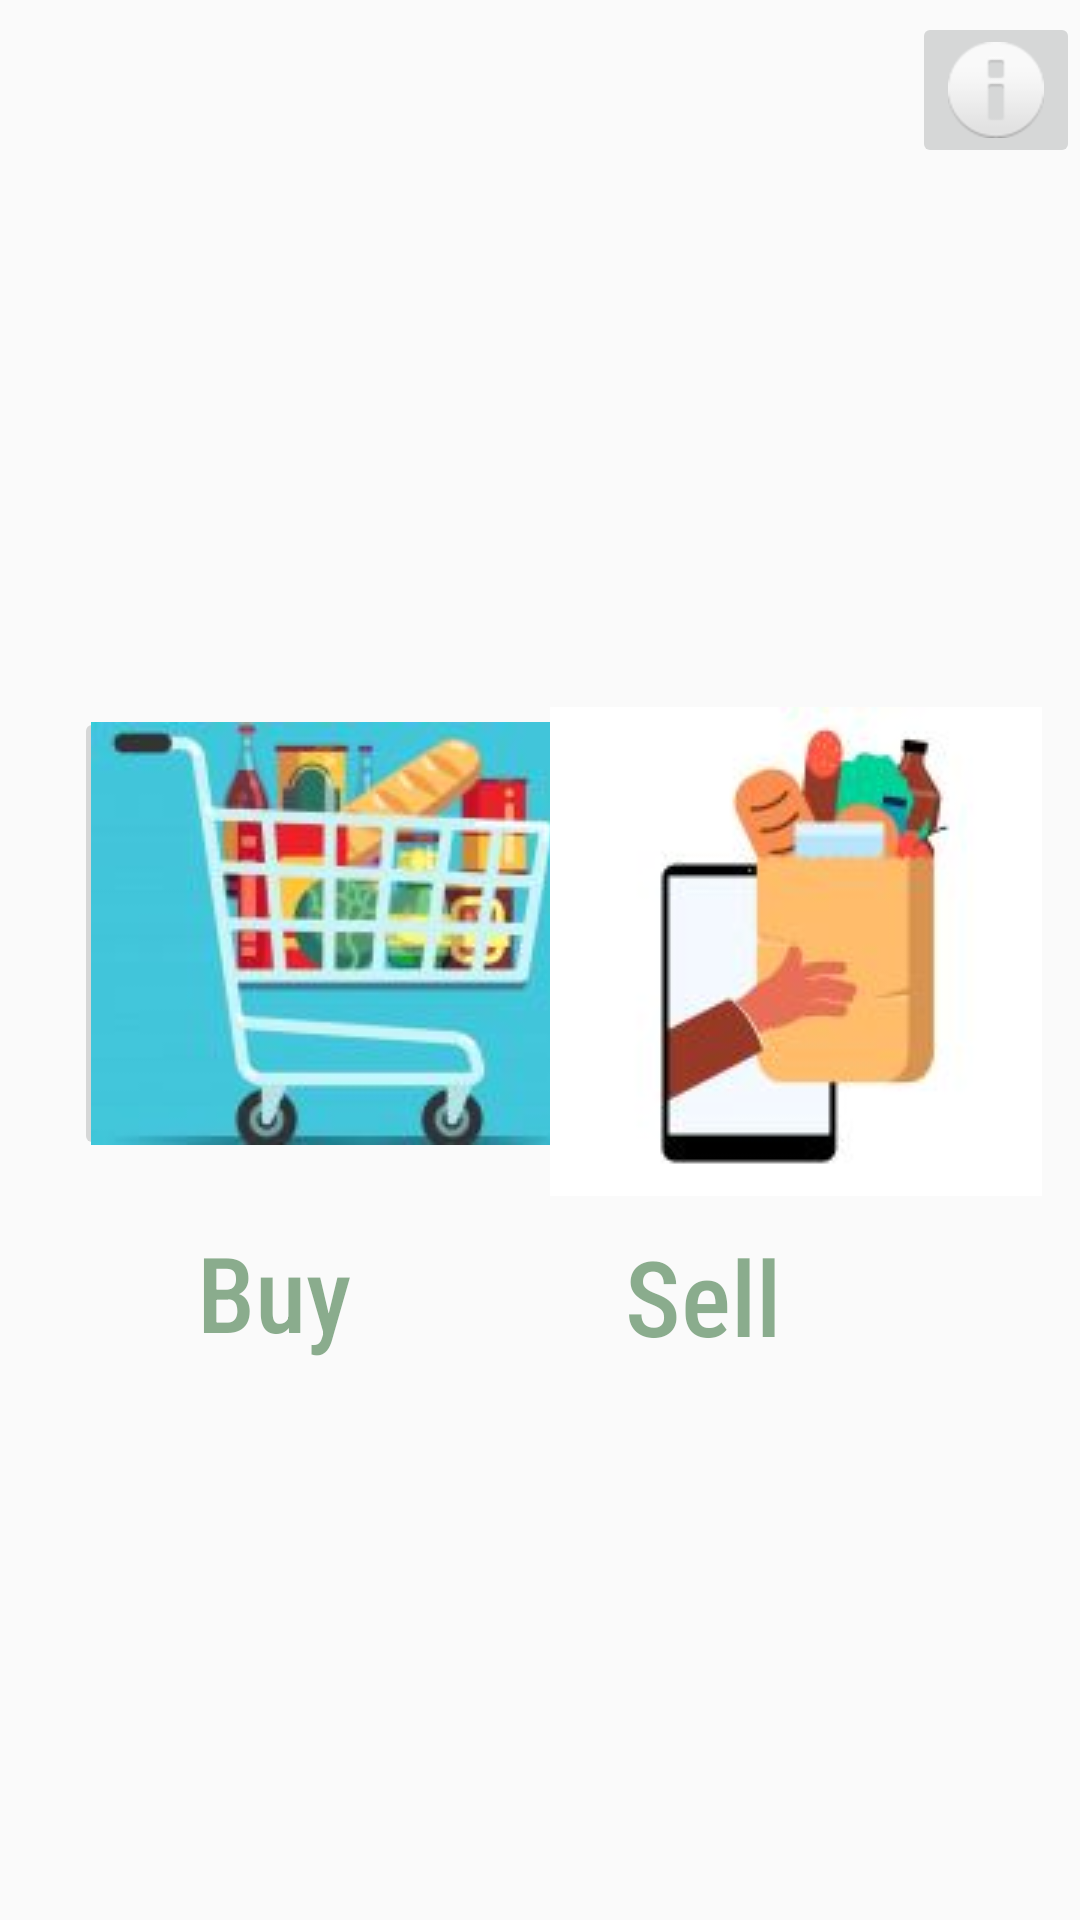

Icons on this 1080w x 1920h Android screen, each with the point to tap as point (x, y):
info: point (996, 90)
